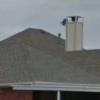Chimney: (56, 8, 86, 55)
